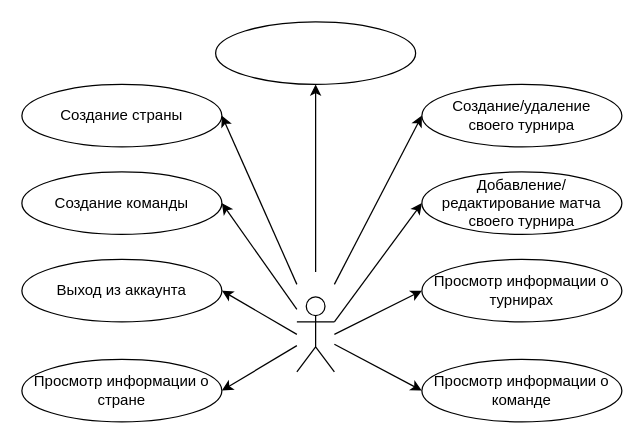
Image size: 644x444. Some labels were removed from this diagram. Each missing label, with the centre of its shape:
"Администратор" belongs at [315,334].
"Просмотр/изменение прав пользователей" belongs at [315,52].
